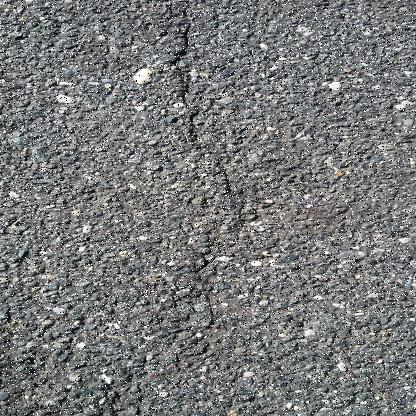Cracks: (142, 0, 257, 228)
